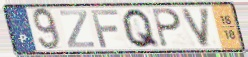9: (33, 7, 63, 53)
F: (89, 8, 121, 49)
P: (151, 7, 183, 49)
Q: (120, 7, 162, 50)
V: (179, 6, 213, 49)
Z: (58, 9, 97, 49)
